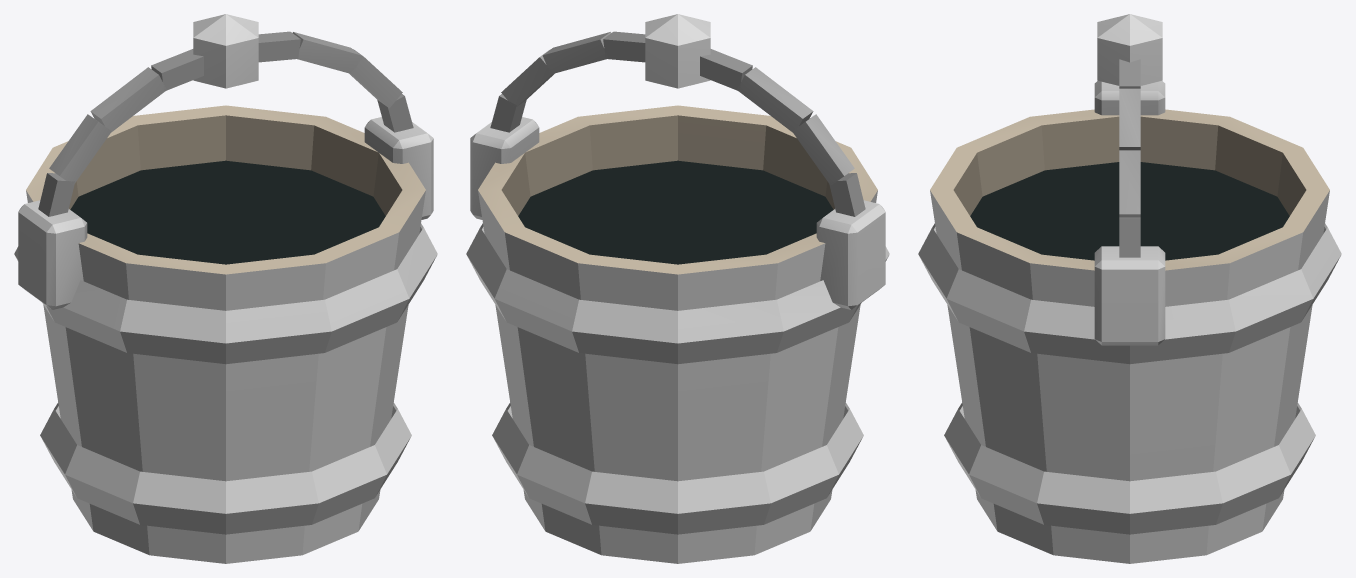
The model's file is well_bucket.glb.
The picture shows the model from 3 angles, left to right: view 1: azimuth 30°, elevation 25°; view 2: azimuth 150°, elevation 25°; view 3: azimuth 270°, elevation 25°; orthographic projection.
Parts seen in each view (by area): view 1: bail; view 2: bail; view 3: bail.
Part boxes in pixels (bbox=[...]): bail: bbox=[14, 14, 437, 563]; bail: bbox=[466, 14, 889, 563]; bail: bbox=[918, 14, 1341, 563].
Bounding box in the file's own units: 0.38 × 0.455 × 0.36.
